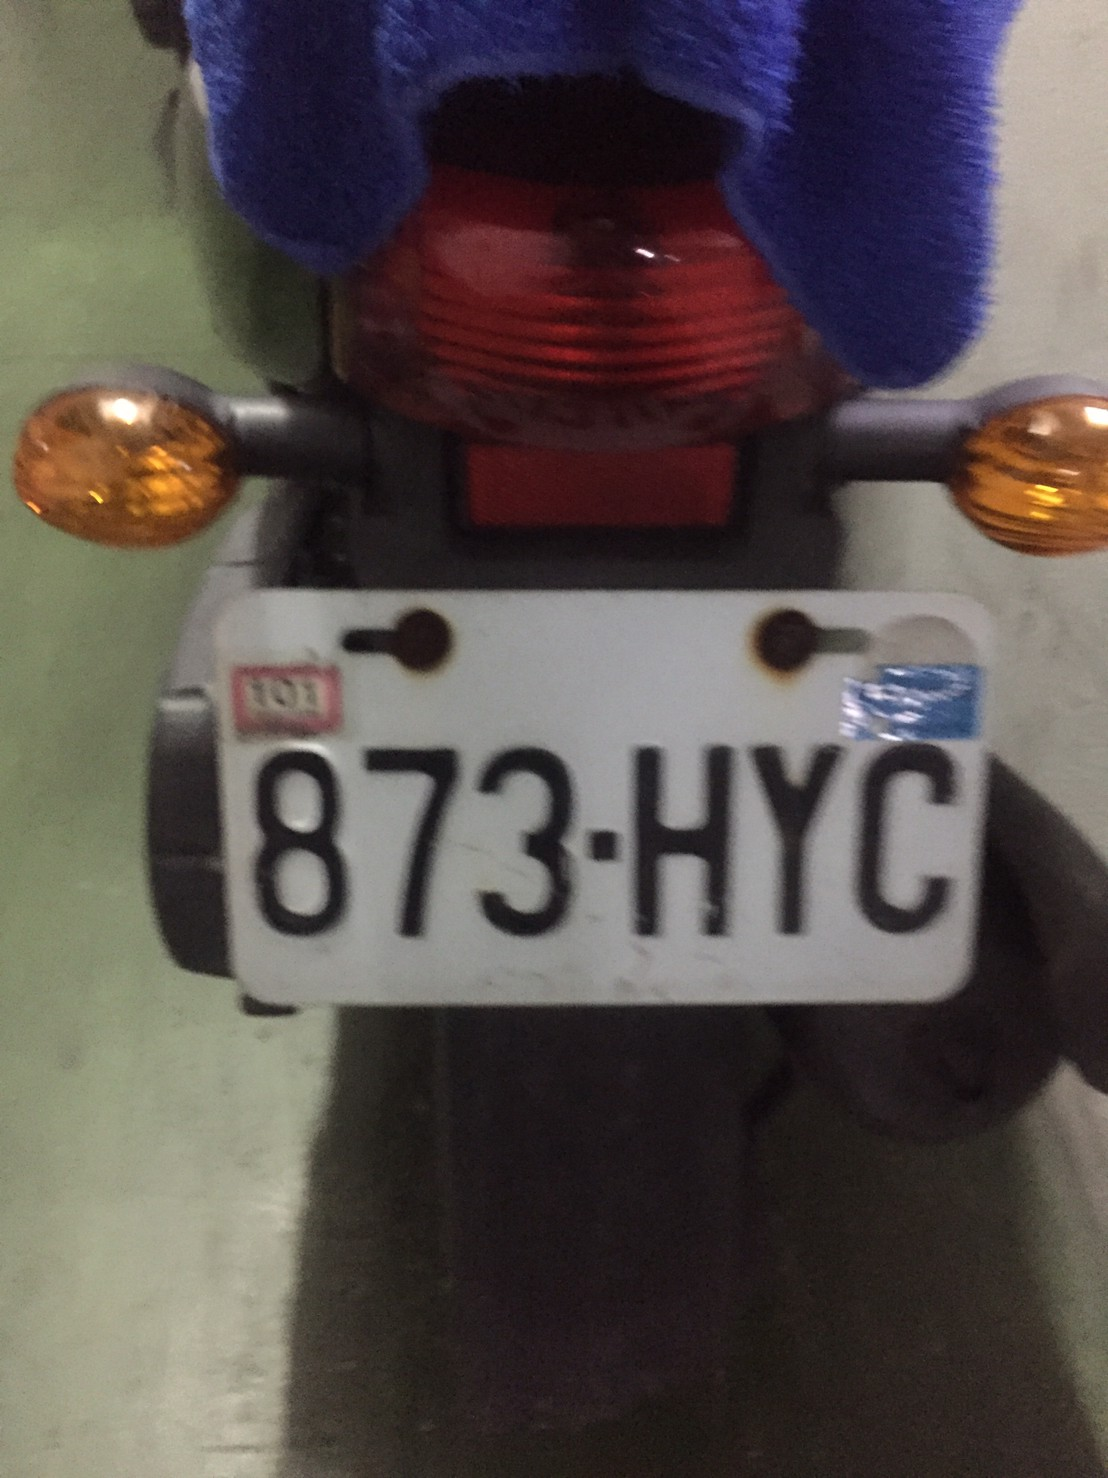LP: (232, 598, 972, 995)
